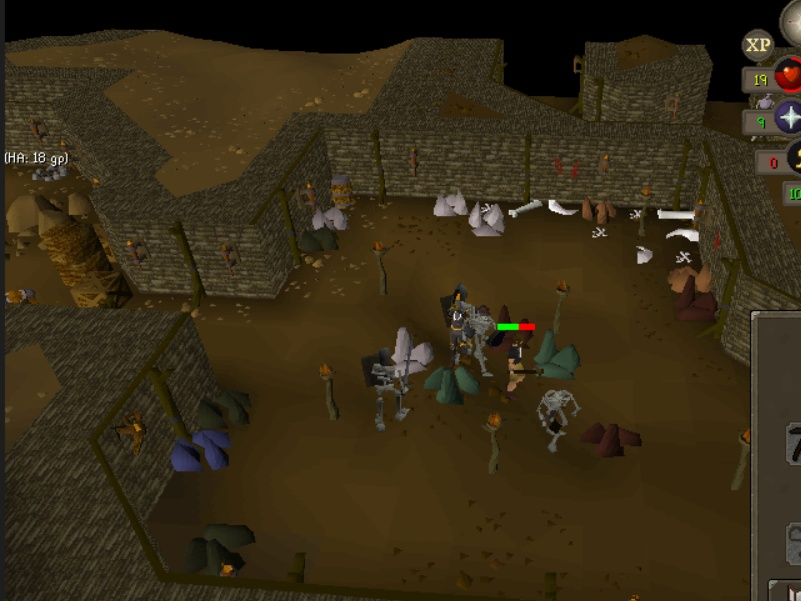adamant: (421, 357, 488, 409), (529, 327, 587, 387)
coal: (178, 518, 261, 580), (192, 383, 254, 436), (298, 221, 342, 257)
copper: (664, 258, 720, 291), (578, 193, 624, 227)
iron: (575, 416, 648, 464), (667, 270, 720, 322)
mithril: (167, 428, 238, 479)
silver: (386, 322, 442, 383), (466, 195, 514, 241), (429, 187, 473, 220)
tin: (306, 205, 354, 232)
